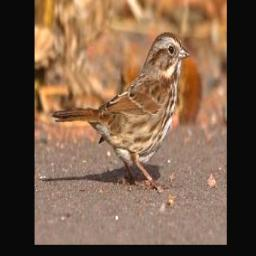Sparrow: (50, 26, 189, 193)
